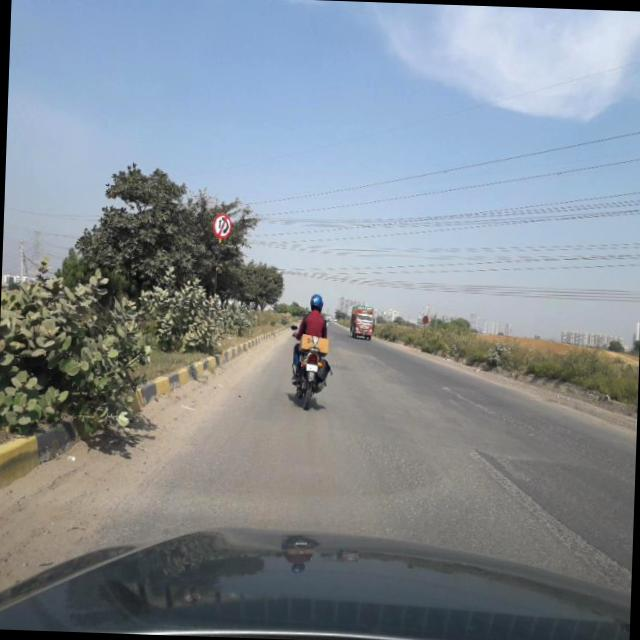crack: (342, 436, 634, 569), (458, 390, 596, 462)
